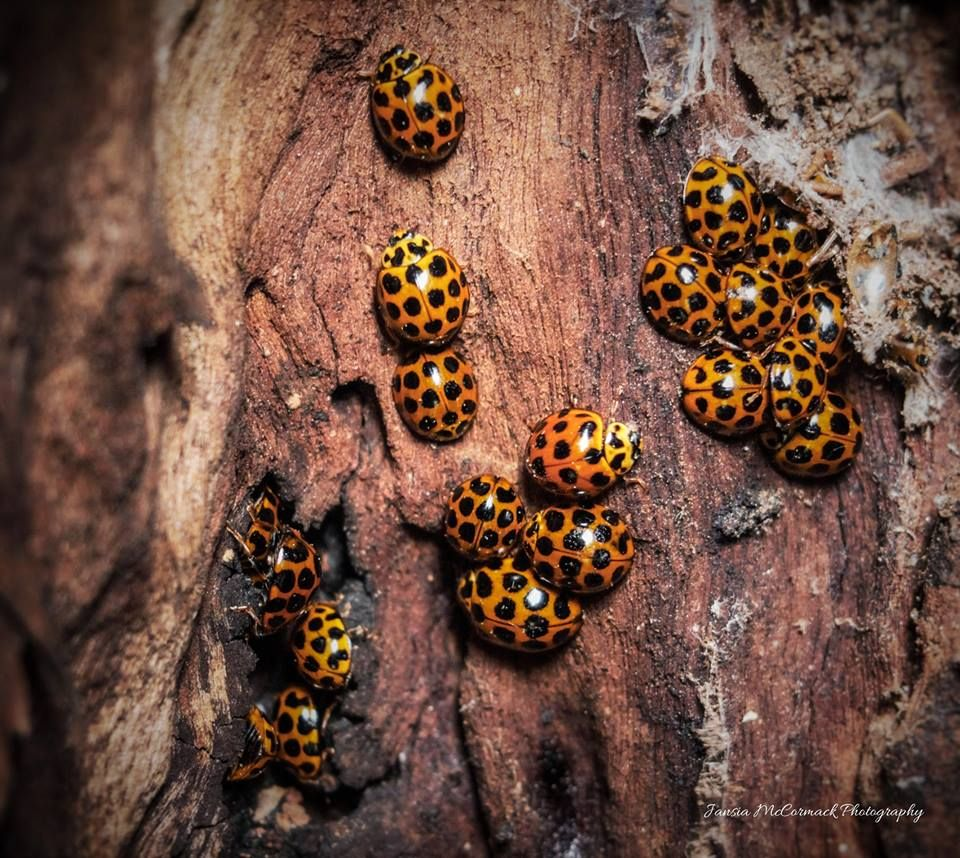red: (368, 44, 471, 172), (522, 407, 636, 507), (374, 225, 466, 348), (522, 502, 640, 597), (455, 568, 578, 657), (631, 242, 731, 346), (676, 344, 774, 446), (390, 344, 476, 447), (683, 152, 768, 256), (443, 474, 521, 564), (768, 340, 830, 432), (289, 604, 356, 685), (723, 263, 790, 343), (273, 522, 315, 644), (273, 688, 321, 779)
